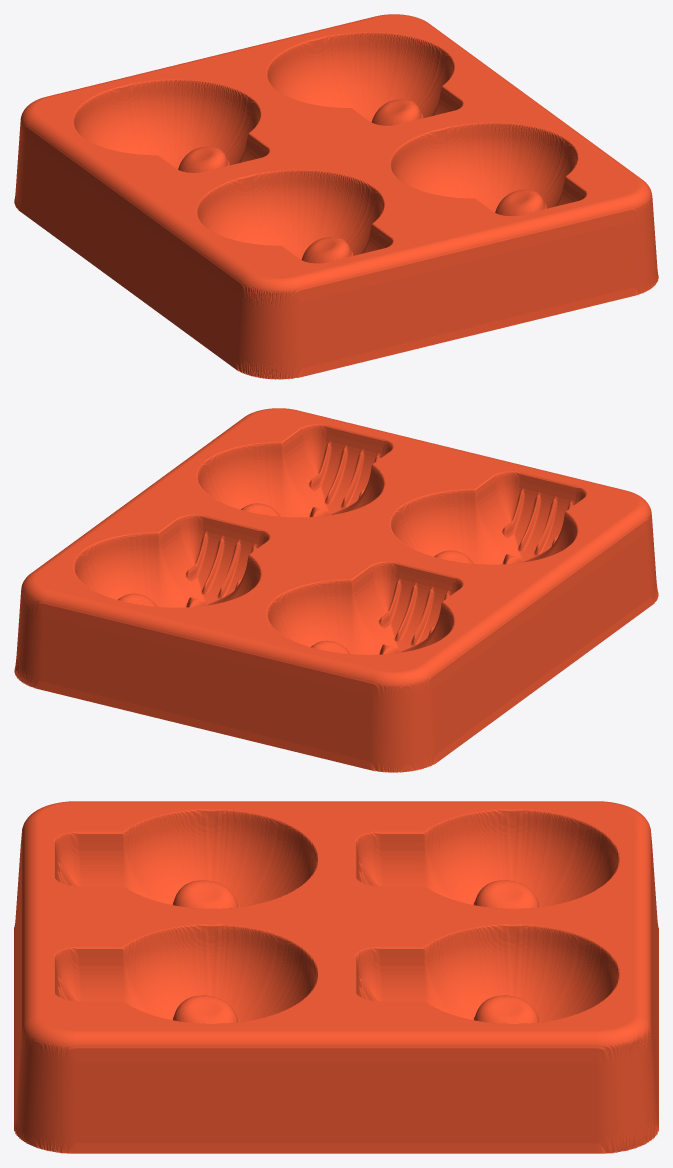
File: mold.glb
The picture shows the model from 3 angles, top to bottom: view 1: azimuth 30°, elevation 25°; view 2: azimuth 150°, elevation 25°; view 3: azimuth 270°, elevation 25°; orthographic projection. The views are drawn at different scales.
Parts seen in each view (by area): view 1: geometry_0; view 2: geometry_0; view 3: geometry_0.
Boxes of the visible parts, x1,y1,x2,y2 form: geometry_0: (14,14,658,379); geometry_0: (14,408,658,772); geometry_0: (14,801,658,1153).
Bounding box in the file's own units: 0.0858 × 0.0182 × 0.0942.
